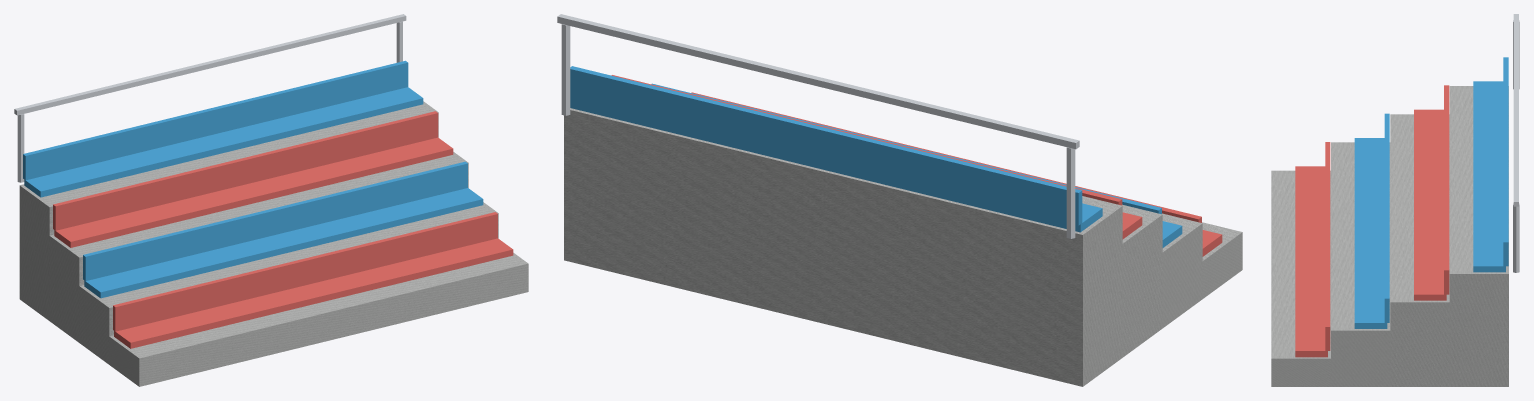
File: velodrome-and-track-cycling-spectator-seating-bay-lowe-6402c7d4__37996.glb
3 views of the same model, side by side, from view 1: azimuth 30°, elevation 25°; view 2: azimuth 150°, elevation 25°; view 3: azimuth 270°, elevation 25° (orthographic). The views are drawn at different scales.
Visible parts, largest first — view 1: spectator-seating-bay-lower-azure, spectator-seating-bay-lower-red, spectator-seating-bay-lower-apron, spectator-seating-bay-lower-steel; view 2: spectator-seating-bay-lower-apron, spectator-seating-bay-lower-azure, spectator-seating-bay-lower-steel, spectator-seating-bay-lower-red; view 3: spectator-seating-bay-lower-apron, spectator-seating-bay-lower-red, spectator-seating-bay-lower-azure, spectator-seating-bay-lower-steel.
Boxes of the visible parts, x1,y1,x2,y2 form: spectator-seating-bay-lower-azure: (23,60,483,298); spectator-seating-bay-lower-red: (53,111,513,348); spectator-seating-bay-lower-apron: (19,101,528,386); spectator-seating-bay-lower-steel: (14,14,406,182); spectator-seating-bay-lower-apron: (564,108,1242,386); spectator-seating-bay-lower-azure: (570,66,1182,247); spectator-seating-bay-lower-steel: (557,14,1079,238); spectator-seating-bay-lower-red: (611,75,1222,256); spectator-seating-bay-lower-apron: (1271,86,1508,386); spectator-seating-bay-lower-red: (1295,85,1449,357); spectator-seating-bay-lower-azure: (1354,57,1508,328); spectator-seating-bay-lower-steel: (1513,14,1519,272).
Size of the model in its own units: 6 by 2.75 by 3.34.
4 materials, 1 textured.
